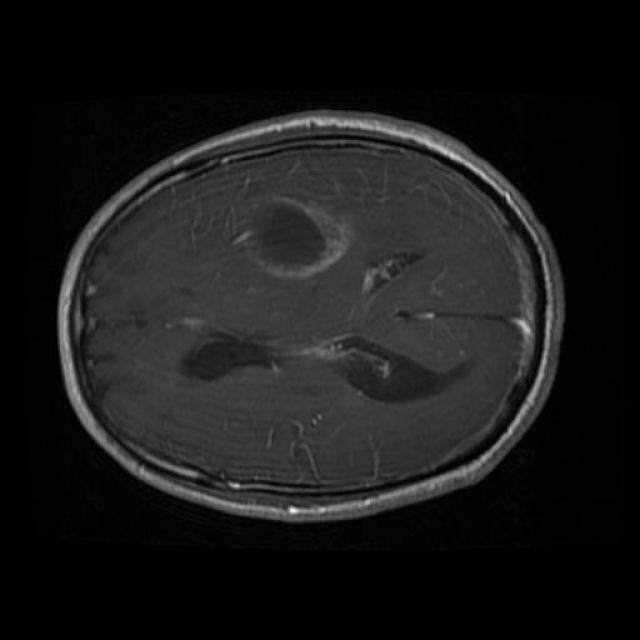Glioma: (235, 195, 349, 279)
